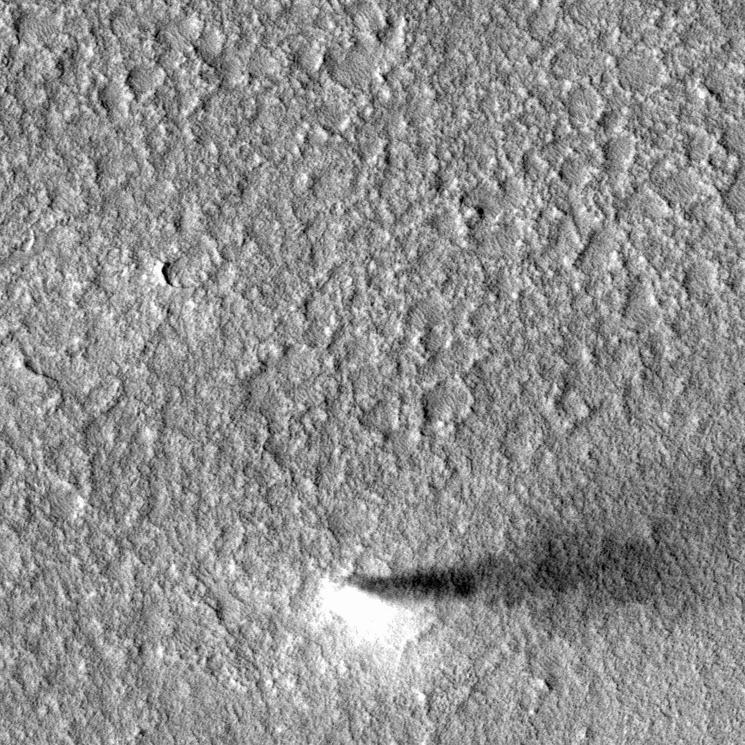dust_devil: (310, 535, 681, 658)
